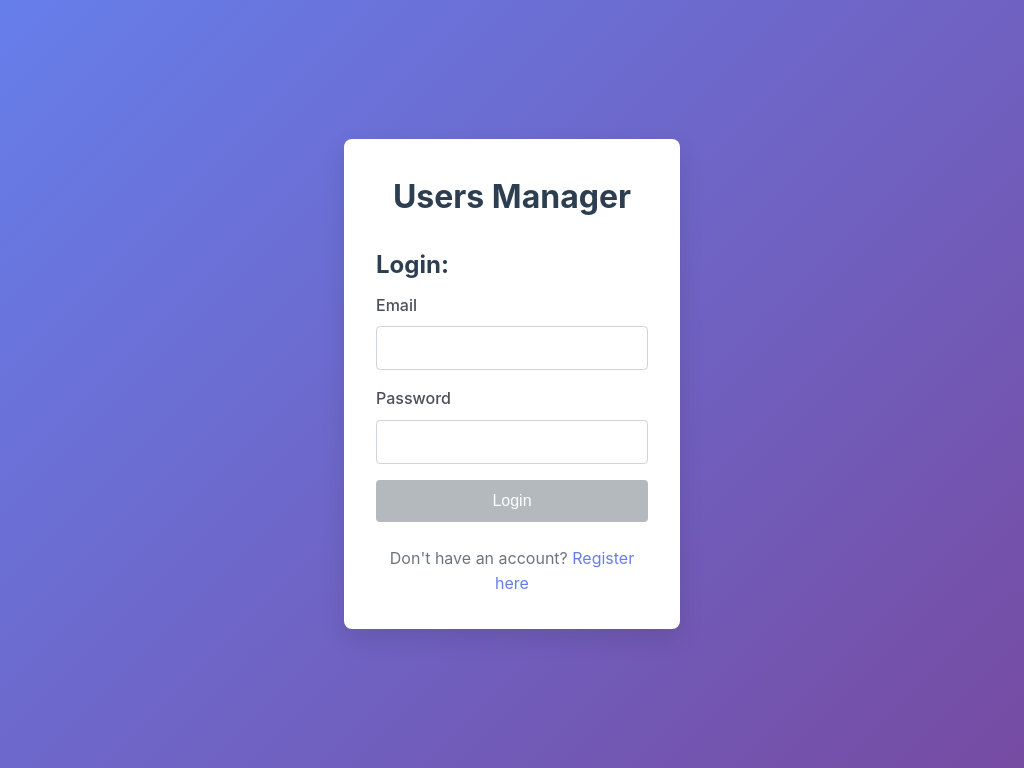
Test case: form becomes incomplete when email is cleared
The image size is (1024, 768).
Step 1. Type "test@example.com" into the field labelled "Email" → (512, 348), box [376,326,648,370]
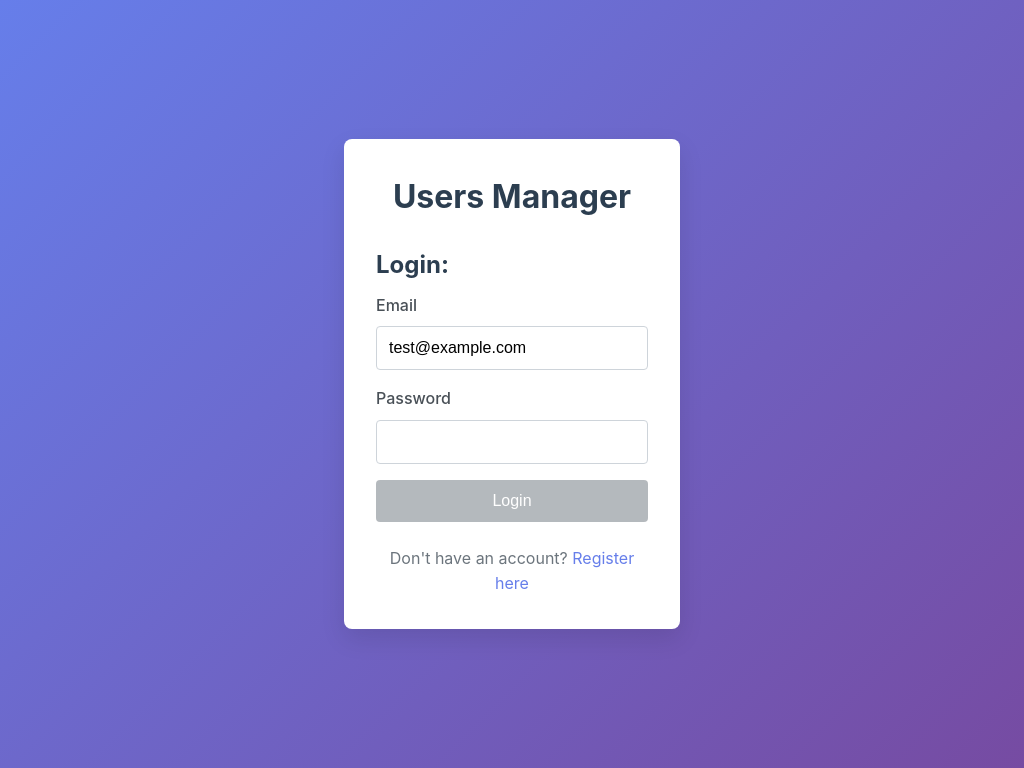
Step 2. Type "password123" into the password field labelled "Password" → (512, 442), box [376,420,648,464]
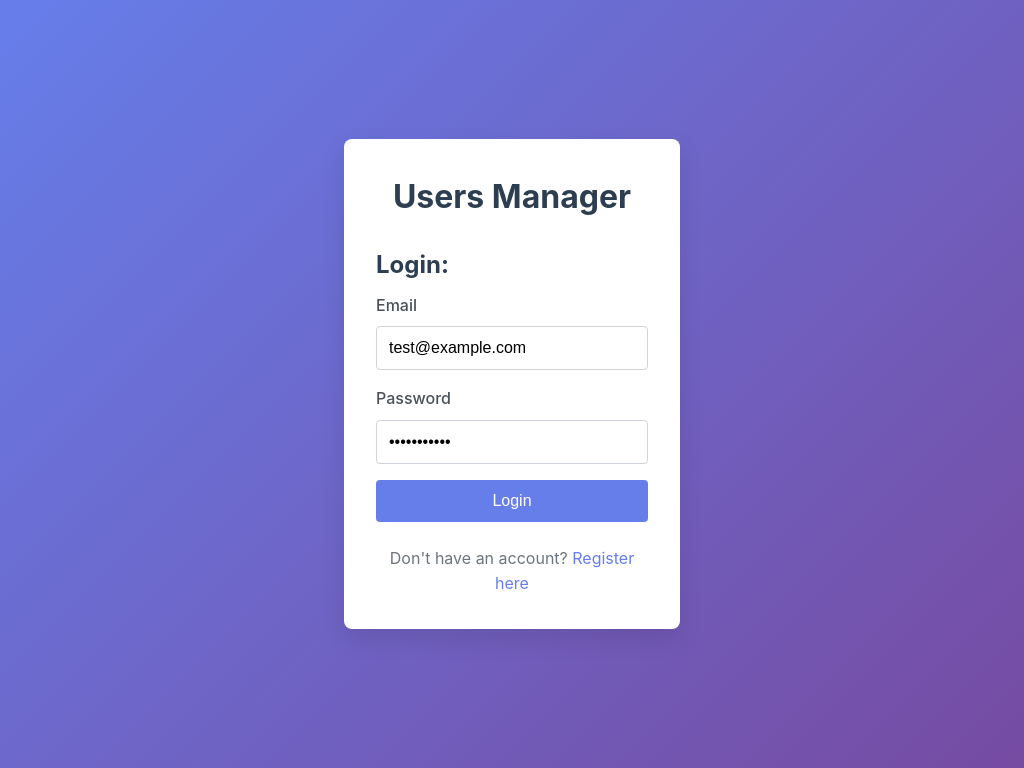
Result: the button "Login" is enabled at [376,480,648,522]
Step 3. Clear the field labelled "Email" → (512, 348), box [376,326,648,370]
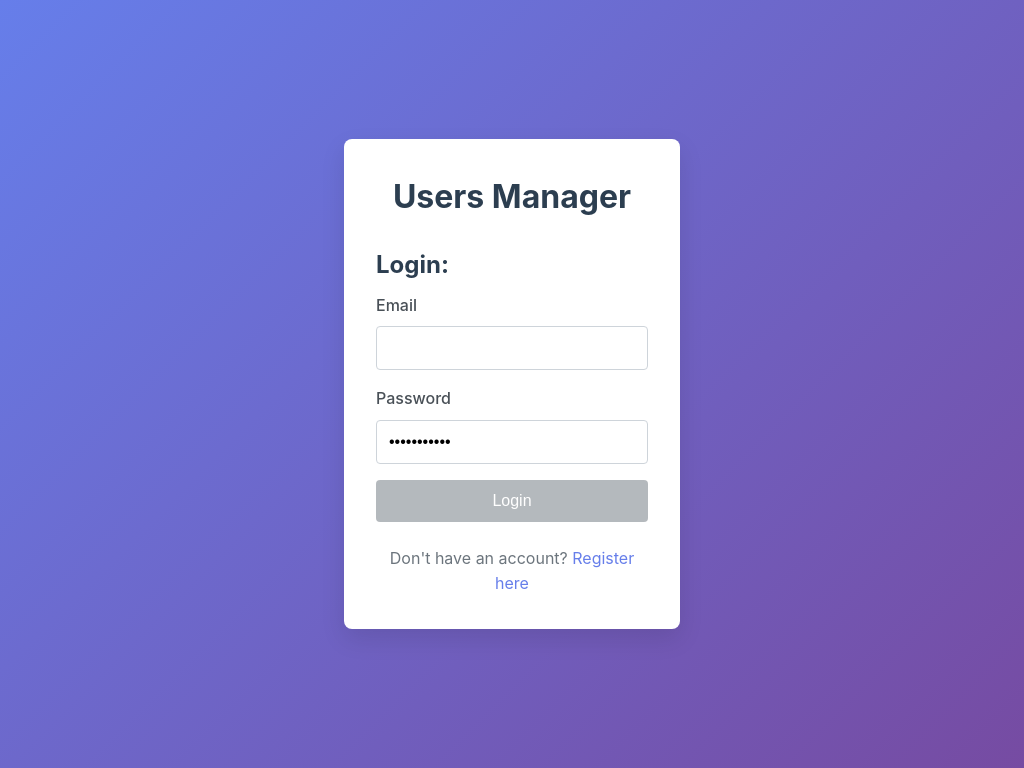
Result: the button "Login" is disabled at [376,480,648,522]
